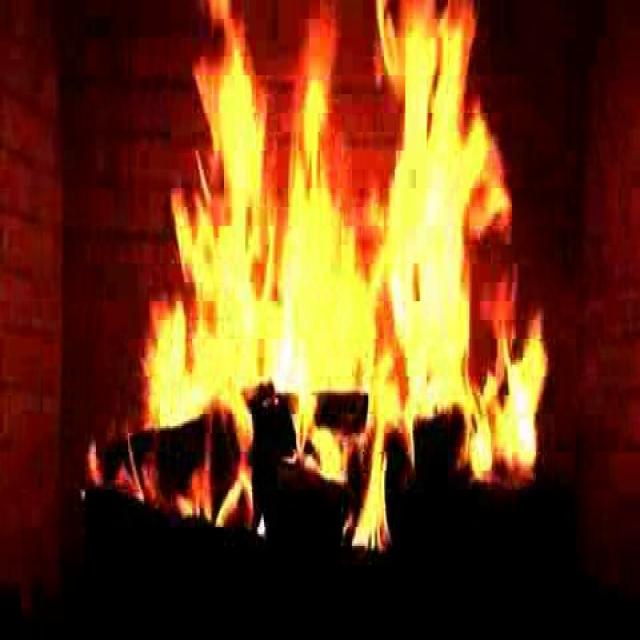fire: (148, 9, 516, 473)
